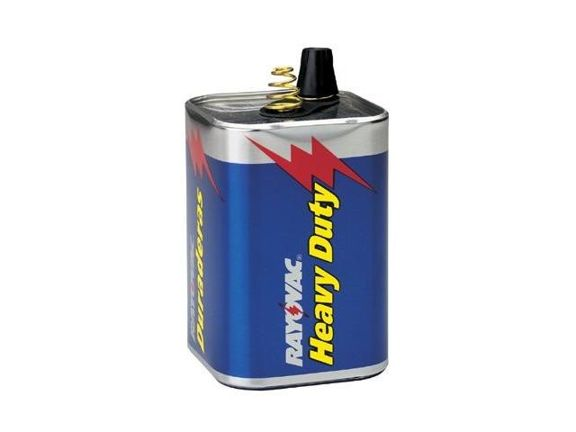6V: (165, 43, 408, 396)
